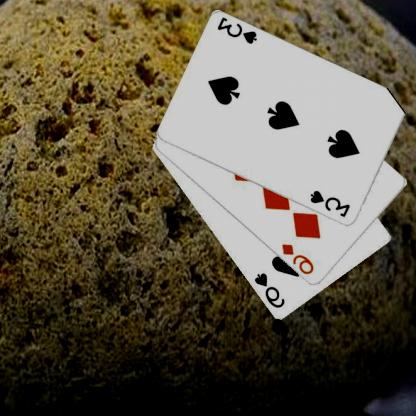3S: (309, 188, 353, 219), (216, 15, 260, 46)
6S: (254, 270, 288, 310)
9D: (281, 242, 317, 276)
